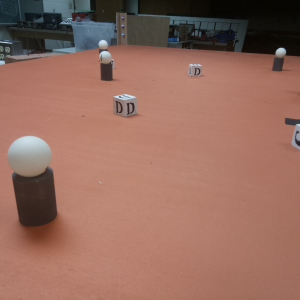blockD: (114, 93, 136, 116), (188, 64, 202, 79)
corner: (115, 13, 129, 43)
obstacle: (12, 136, 53, 227), (99, 52, 112, 80), (275, 48, 284, 71)
